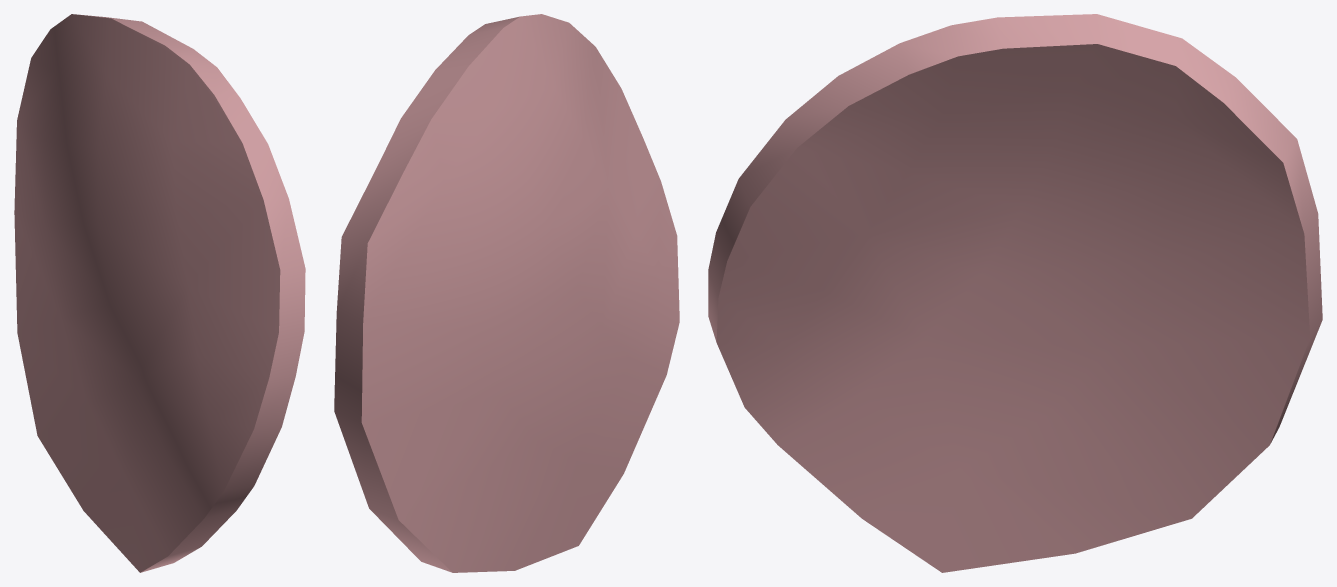
The picture shows the model from 3 angles, left to right: view 1: azimuth 30°, elevation 25°; view 2: azimuth 150°, elevation 25°; view 3: azimuth 270°, elevation 25°; orthographic projection. The views are drawn at different scales.
Visible parts, largest first — view 1: ZA_b6c9ac6a135c1b0a; view 2: ZA_b6c9ac6a135c1b0a; view 3: ZA_b6c9ac6a135c1b0a.
Boxes of the visible parts, <box> form: ZA_b6c9ac6a135c1b0a: <box>14,14,305,572</box>; ZA_b6c9ac6a135c1b0a: <box>334,14,679,572</box>; ZA_b6c9ac6a135c1b0a: <box>708,14,1322,572</box>.
Bounding box in the file's own units: 0.00907 × 0.0431 × 0.0423.
